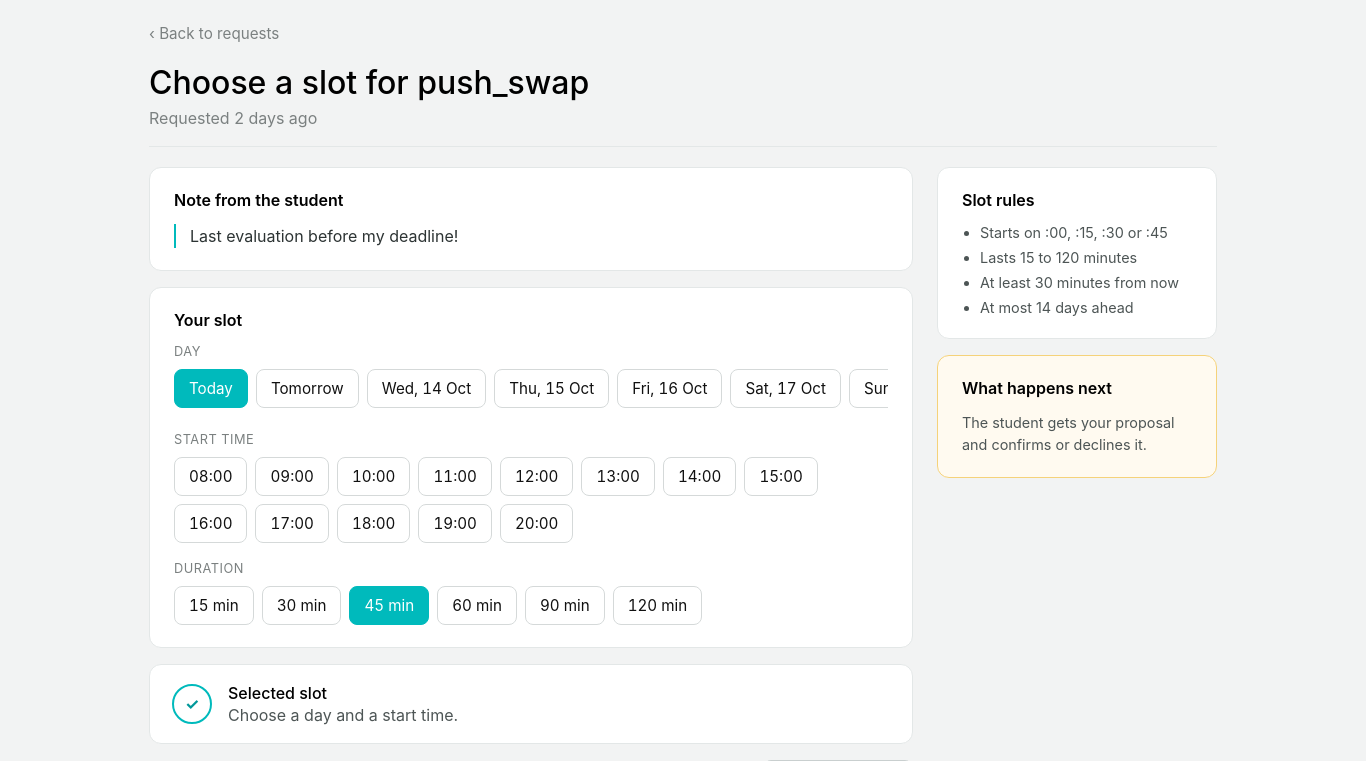
Test case: PickSlotPage timing and field errors (#563) › shows the backend's field errors under the start time and the duration
The width and height of the screenshot is (1366, 761).
Expected: the heading "Choose a slot for push_swap" is shown, x1=149 y1=63 x2=589 y2=102
What coordinates should you click on to do the following:
click the button "Tomorrow"
I would click on:
 (307, 388)
Its box is x1=256 y1=369 x2=359 y2=408.
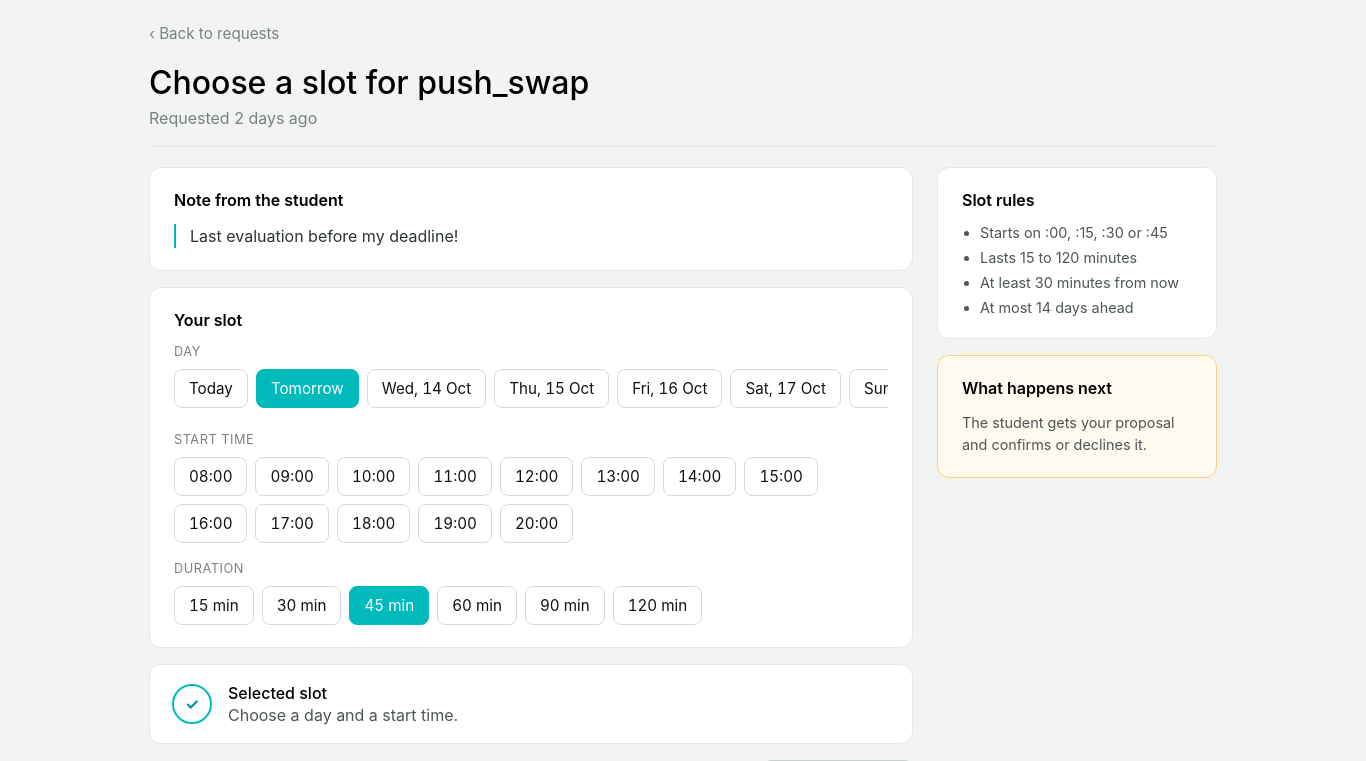
What coordinates should you click on to do the following:
click the button "10:00"
I would click on:
 (374, 476)
Its box is x1=337 y1=457 x2=410 y2=496.
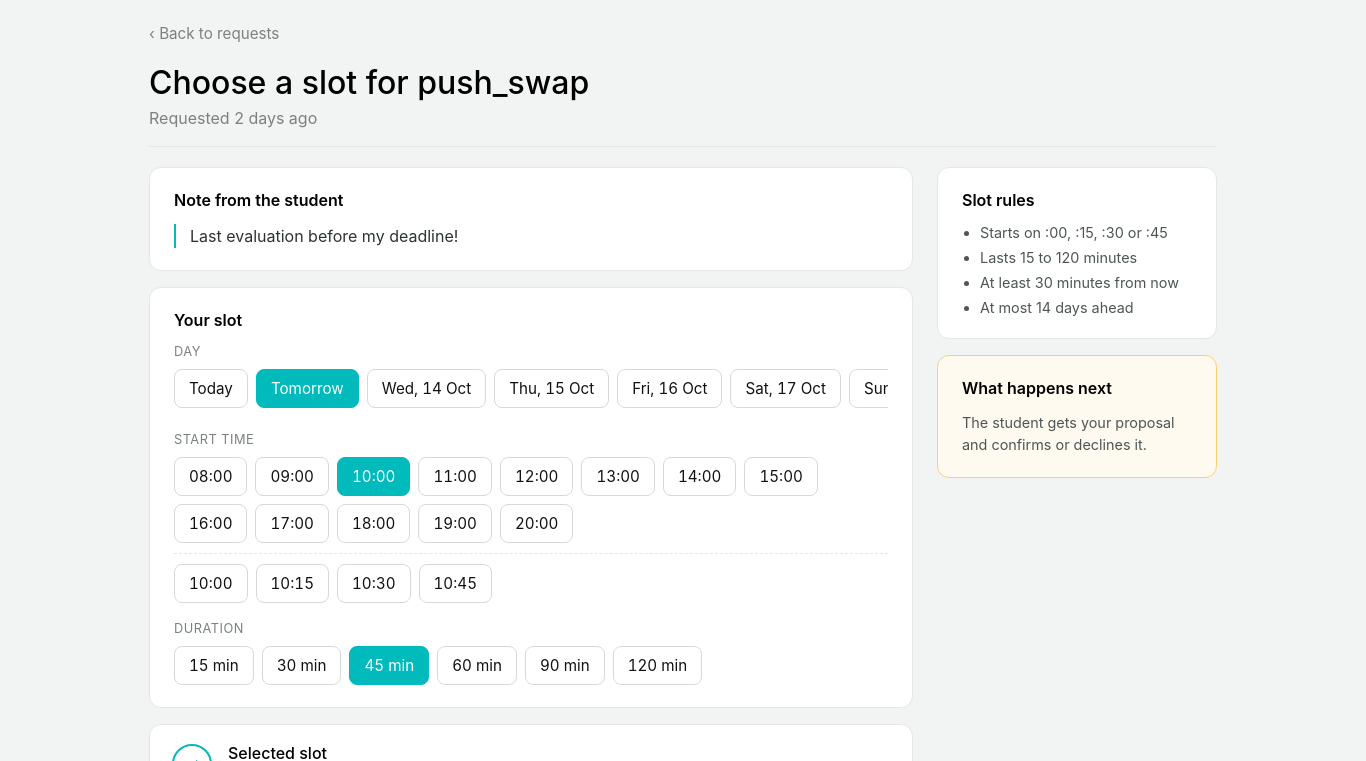
What coordinates should you click on to do the following:
click the button "10:15"
I would click on:
 (292, 584)
Its box is x1=256 y1=564 x2=329 y2=603.
(page scrolled)
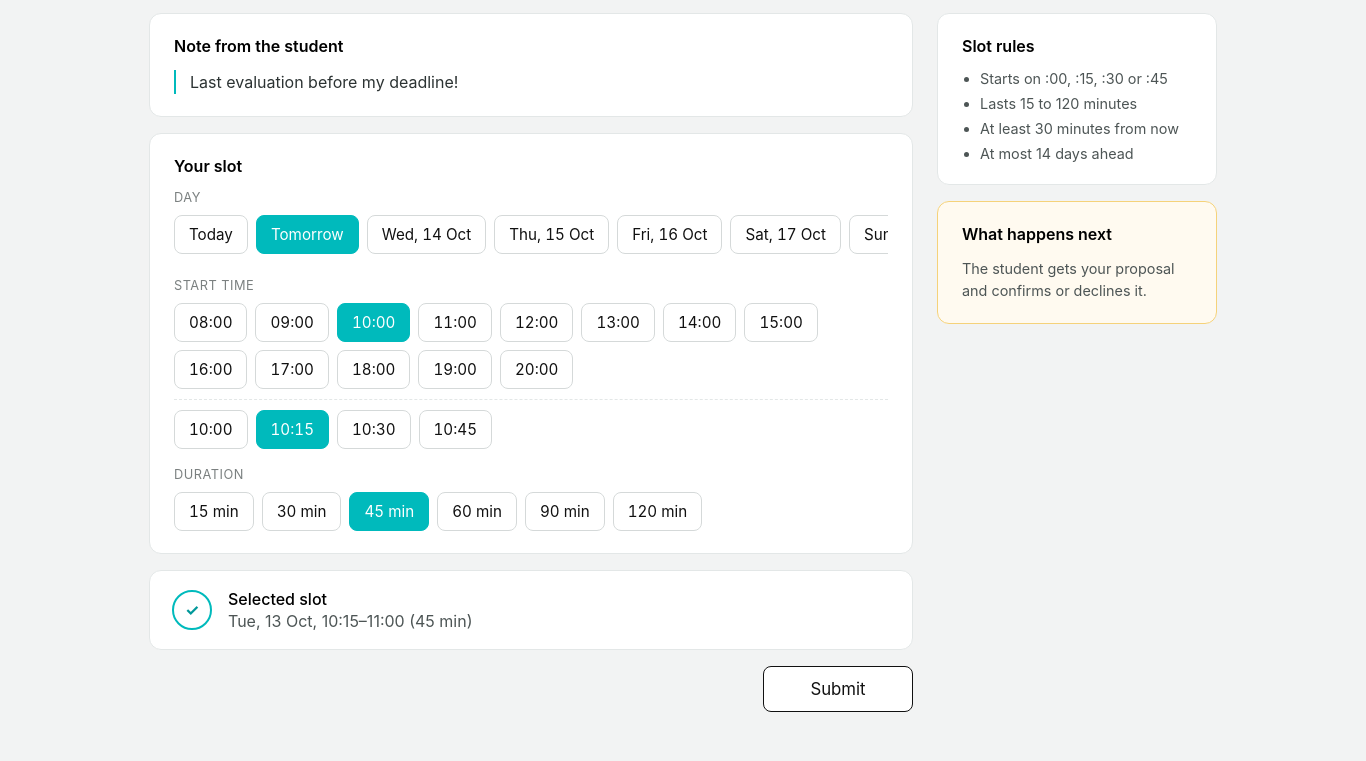
What coordinates should you click on to do the following:
click the button "Submit"
I would click on:
 (838, 689)
Its box is x1=763 y1=666 x2=913 y2=712.
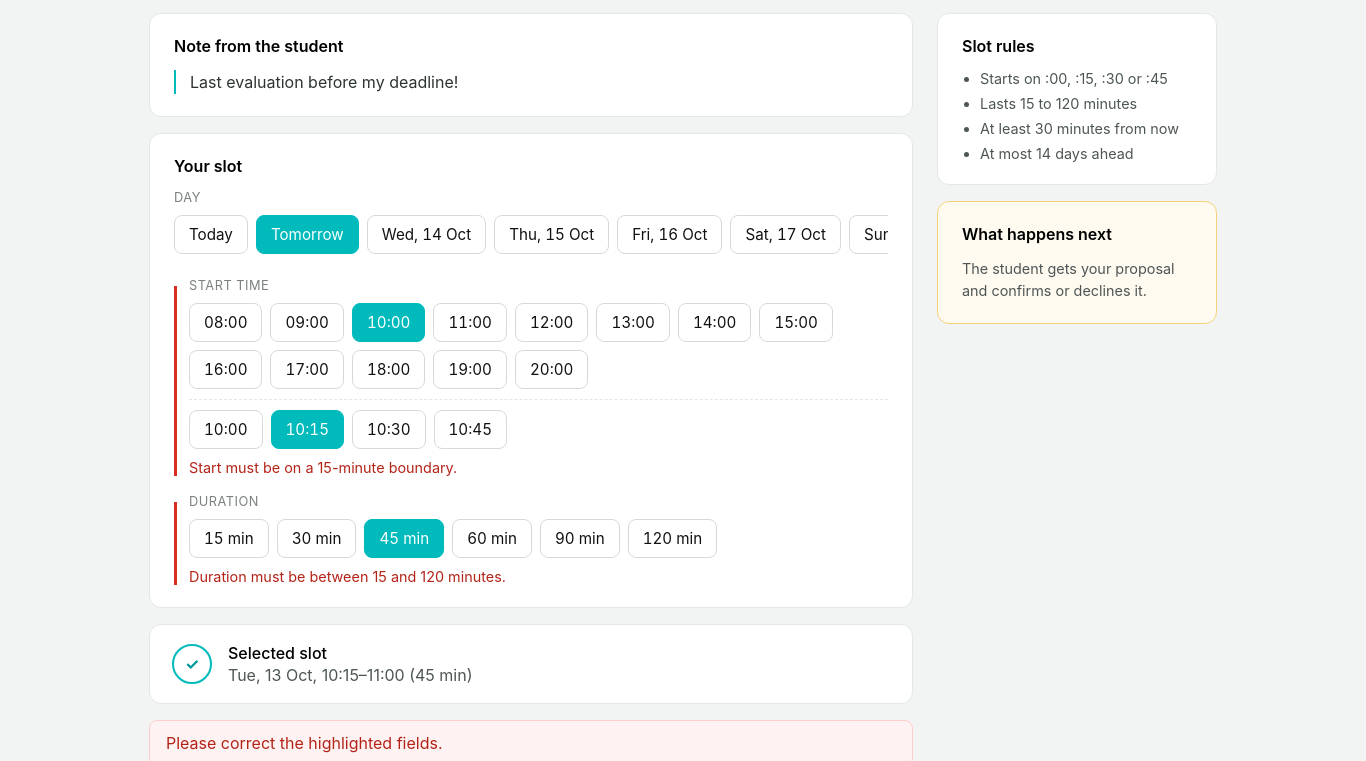
Result: the text "Start must be on a 15-minute boundary." is shown at x1=189 y1=459 x2=457 y2=476
Result: the text "Duration must be between 15 and 120 minutes." is shown at x1=189 y1=568 x2=506 y2=585
Result: the message reads "Please correct the highlighted fields." at x1=166 y1=733 x2=442 y2=753
What coordinates should you click on to do the following:
click the button "10:30"
I would click on:
 (389, 430)
Its box is x1=352 y1=410 x2=426 y2=449.
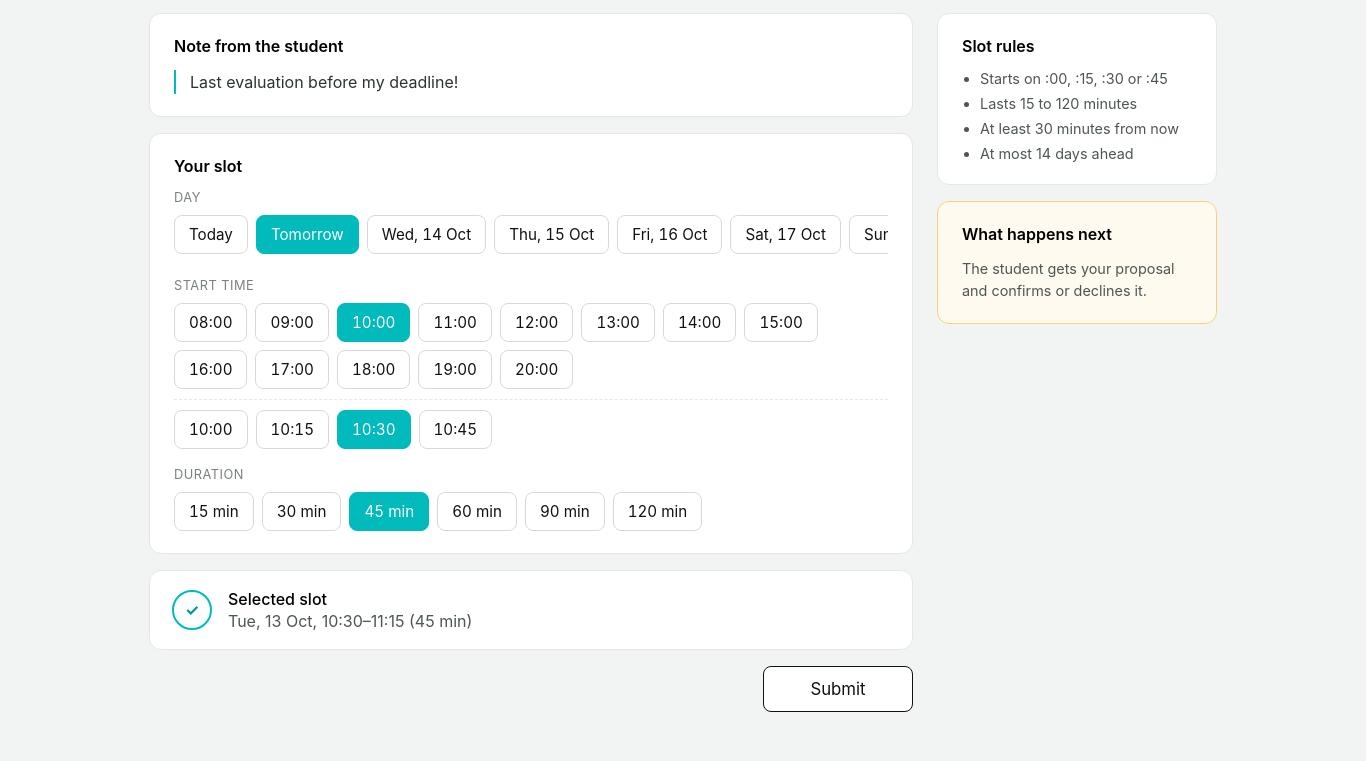
Result: the text "Start must be on a 15-minute boundary." is gone
